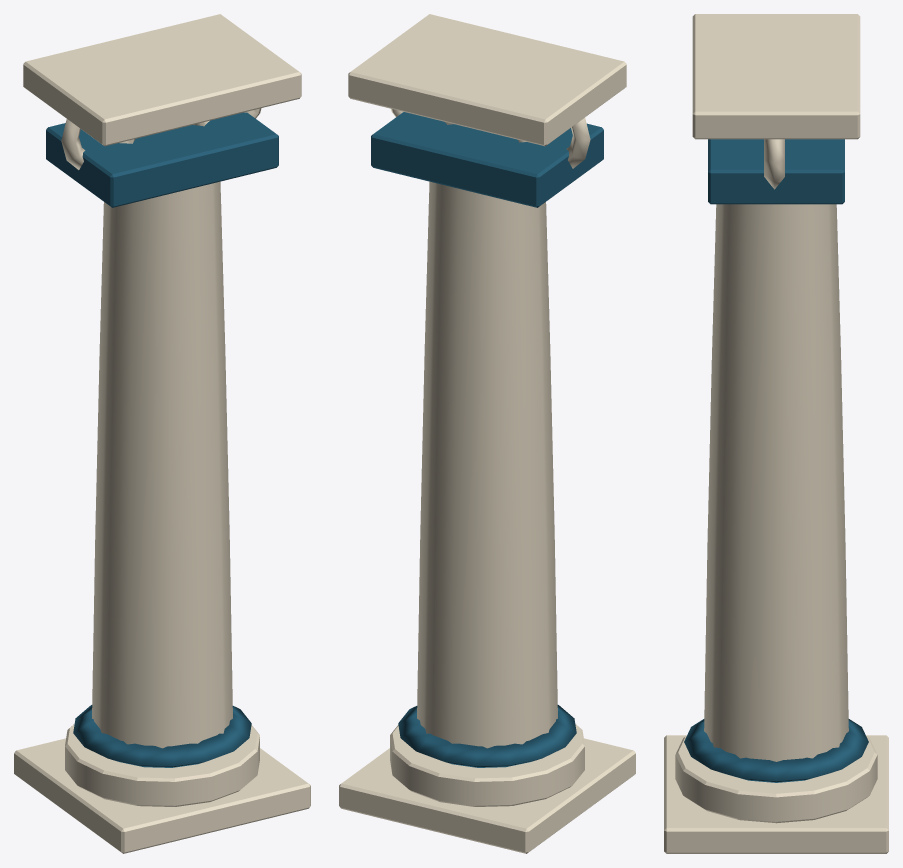
The model's file is column_ionic_aegean_LOD1.glb.
3 views of the same model, side by side, from view 1: azimuth 30°, elevation 25°; view 2: azimuth 150°, elevation 25°; view 3: azimuth 270°, elevation 25° (orthographic). The views are drawn at different scales.
Parts seen in each view (by area): view 1: column_ionic_aegean_LOD1; view 2: column_ionic_aegean_LOD1; view 3: column_ionic_aegean_LOD1.
Part boxes in pixels (x1,y1,x2,y2): column_ionic_aegean_LOD1: [14, 14, 310, 853]; column_ionic_aegean_LOD1: [339, 14, 635, 853]; column_ionic_aegean_LOD1: [664, 14, 888, 853].
Bounding box in the file's own units: 1.27 × 4.31 × 1.18.
